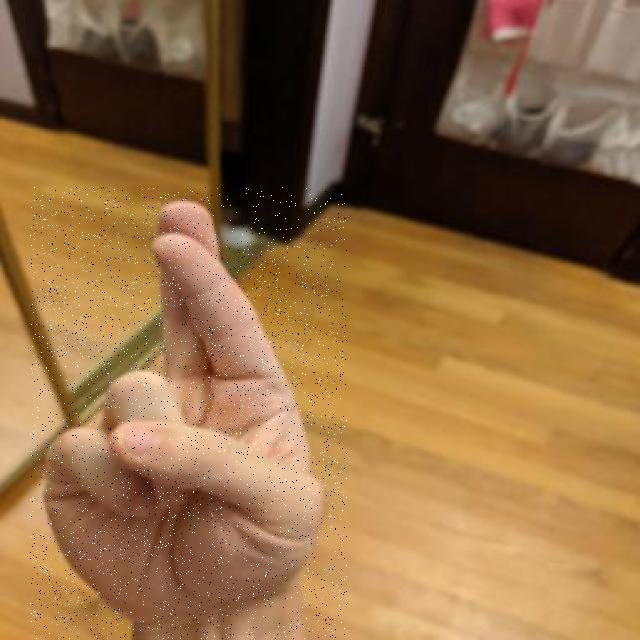R: (30, 187, 347, 639)
